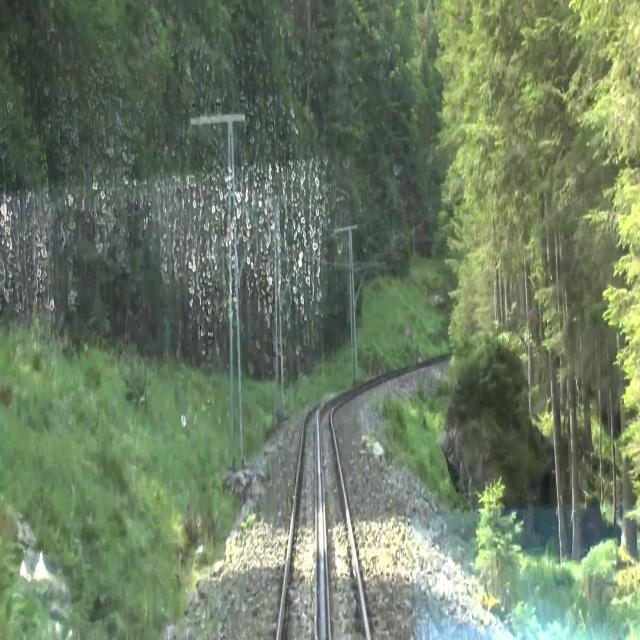rail-track: (281, 392, 368, 639)
